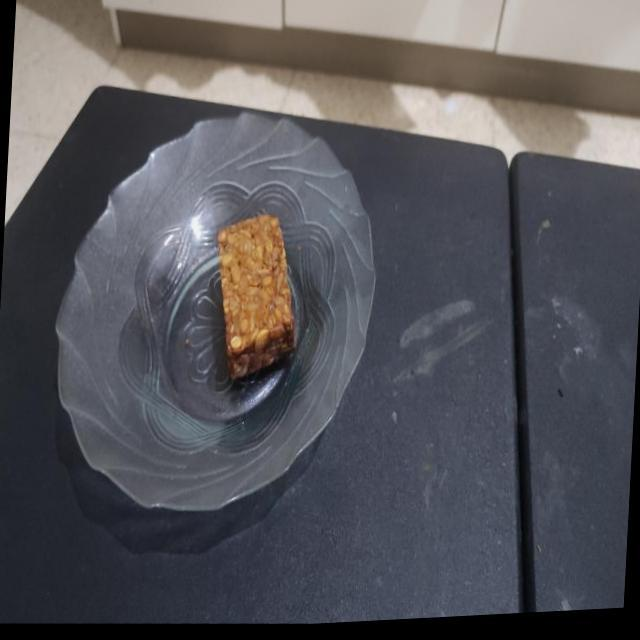tempe_goreng: (218, 214, 295, 379)
